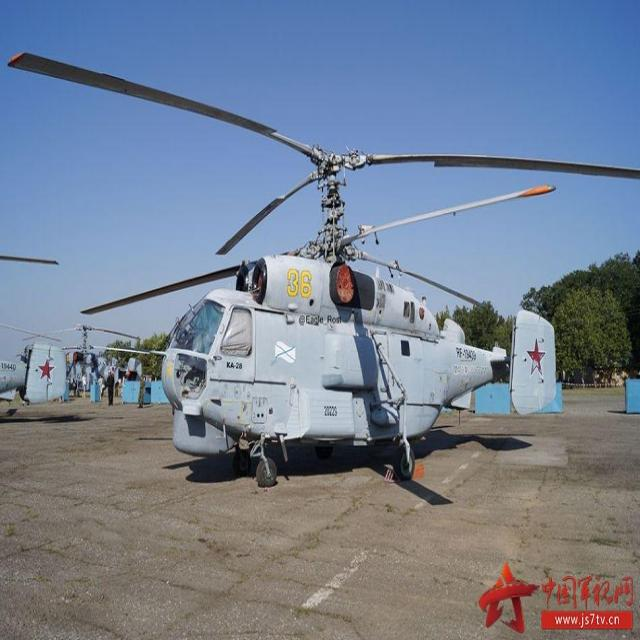MIL_HELO: (6, 42, 640, 487)
